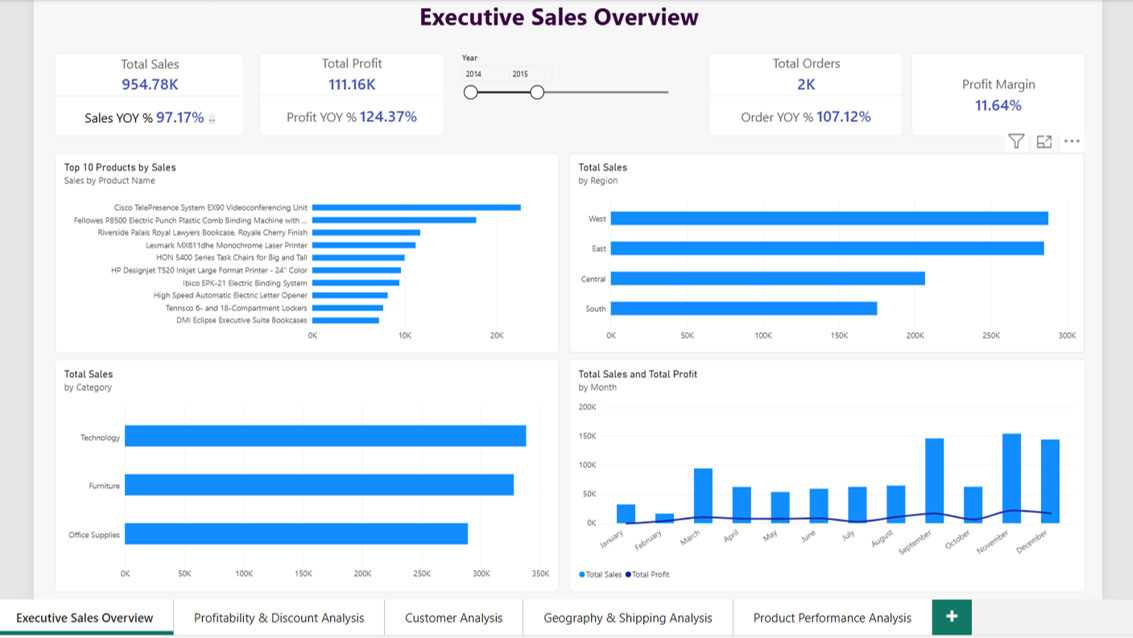

This screenshot's page, from the dashboard's own definition file:
{"tool":"powerbi","page":{"name":"Executive Sales Overview","canvas":[1920,1080],"ordinal":0},"visuals":[{"type":"cardVisual","fields":{"Data":["Sample - Superstore.Total Sales"]},"box":[38,96,340,150],"z":0},{"type":"cardVisual","fields":{"Data":["Orders.Total Profit"]},"box":[406,96,332,150],"z":1000},{"type":"cardVisual","fields":{"Data":["Orders.Profit Margin"]},"box":[1578,96,312,150],"z":2000},{"type":"cardVisual","fields":{"Data":["Orders.Total Orders"]},"box":[1214,96,348,150],"z":3000},{"type":"lineClusteredColumnComboChart","fields":{"Category":["DimDate.Month"],"Y":["Orders.Total Sales"],"Y2":["Orders.Total Profit"]},"box":[962,648,928,418],"z":4000},{"type":"clusteredBarChart","fields":{"Category":["Orders.Category","Orders.Sub-Category"],"Y":["Orders.Total Sales"]},"box":[38,648,906,418],"z":5000},{"type":"clusteredBarChart","fields":{"Category":["Orders.Region"],"Y":["Orders.Total Sales"]},"box":[962,276,928,360],"z":6000},{"type":"clusteredBarChart","title":"Top 10 Products by Sales","fields":{"Category":["Orders.Product Name"],"Y":["Orders.Total Sales"]},"box":[38,276,906,360],"z":7000},{"type":"slicer","fields":{"Values":["DimDate.Year"]},"box":[762,96,398,146],"z":8000},{"type":"textbox","box":[0,0,1889.5,101],"z":9000}]}

Visuals, with their boxes on the page's 1920x1080 design canvas (x1, y1, x2, y2). These are canvas units, not pixel positions in the 1133x638 screenshot, which may show the page scaled, cropped or inside an application window:
cardVisual - Sample - Superstore.Total Sales: Rect(38, 96, 378, 246)
cardVisual - Orders.Total Profit: Rect(406, 96, 738, 246)
cardVisual - Orders.Profit Margin: Rect(1578, 96, 1890, 246)
cardVisual - Orders.Total Orders: Rect(1214, 96, 1562, 246)
lineClusteredColumnComboChart - DimDate.Month x Orders.Total Sales: Rect(962, 648, 1890, 1066)
clusteredBarChart - Orders.Category x Orders.Sub-Category: Rect(38, 648, 944, 1066)
clusteredBarChart - Orders.Region x Orders.Total Sales: Rect(962, 276, 1890, 636)
"Top 10 Products by Sales" clusteredBarChart: Rect(38, 276, 944, 636)
slicer - DimDate.Year: Rect(762, 96, 1160, 242)
textbox: Rect(0, 0, 1890, 101)
